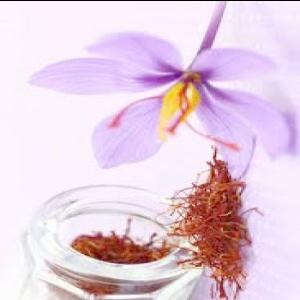Saffron: (23, 22, 290, 172)
